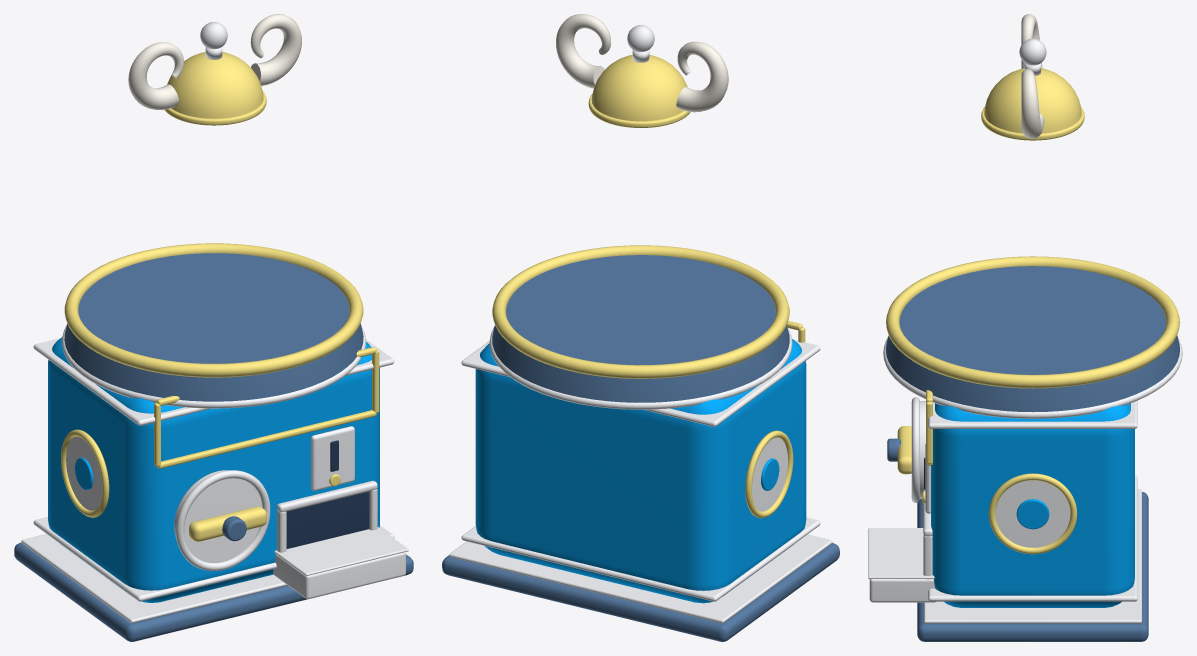
The model's file is gacha.glb.
3 renders of one model, left to right at view 1: azimuth 30°, elevation 25°; view 2: azimuth 150°, elevation 25°; view 3: azimuth 270°, elevation 25°, orthographic.
Visible parts, largest first — view 1: Machine_Navy, Machine_PaintBlue, Machine_Chrome, Machine_Gold, Knob, Machine_White, Machine_Ivory, Machine_Dark; view 2: Machine_PaintBlue, Machine_Navy, Machine_Gold, Machine_Chrome, Machine_Ivory, Machine_White; view 3: Machine_Navy, Machine_PaintBlue, Machine_Gold, Machine_Chrome, Machine_White, Knob, Machine_Ivory.
Boxes of the visible parts, box(x1,y1,x2,y2) form: Machine_Navy: box(14, 253, 413, 641); Machine_PaintBlue: box(48, 337, 379, 602); Machine_Chrome: box(21, 22, 408, 623); Machine_Gold: box(61, 52, 379, 517); Knob: box(174, 470, 270, 570); Machine_White: box(66, 436, 405, 599); Machine_Ivory: box(128, 14, 301, 109); Machine_Dark: box(286, 440, 369, 548); Machine_PaintBlue: box(475, 339, 806, 603); Machine_Navy: box(442, 255, 839, 641); Machine_Gold: box(492, 55, 805, 518); Machine_Chrome: box(449, 25, 832, 623); Machine_Ivory: box(556, 14, 728, 112); Machine_White: box(752, 437, 788, 511); Machine_Navy: box(886, 266, 1179, 641); Machine_PaintBlue: box(931, 403, 1134, 607); Machine_Gold: box(886, 68, 1179, 554); Machine_Chrome: box(868, 38, 1182, 623); Machine_White: box(869, 480, 1070, 602); Knob: box(887, 397, 925, 502); Machine_Ivory: box(1021, 14, 1044, 138).
Bounding box in the file's own units: 2.4 × 4.34 × 2.31.
